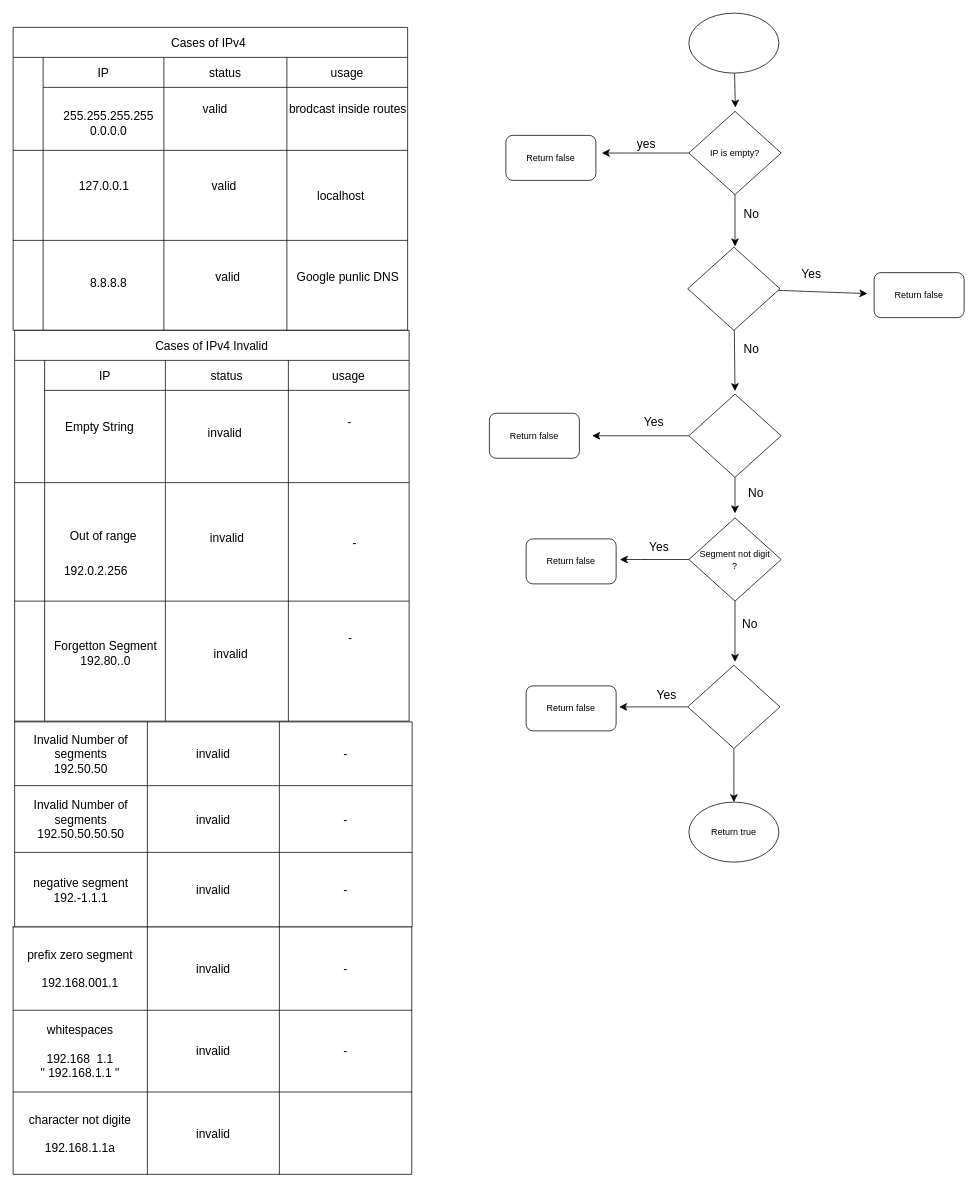
The diagram is 977 pixels wide and 1188 high, and some of its shapes have lost their labels. The shapes that lost their labels are listed below. From the top down, each one's centre as x and y in pixels, then its label:
(733,42): Start
(733,288): Length of Segments ≠ 4
(734,435): Segment Empty ?
(733,706): Segment not in 0..255
